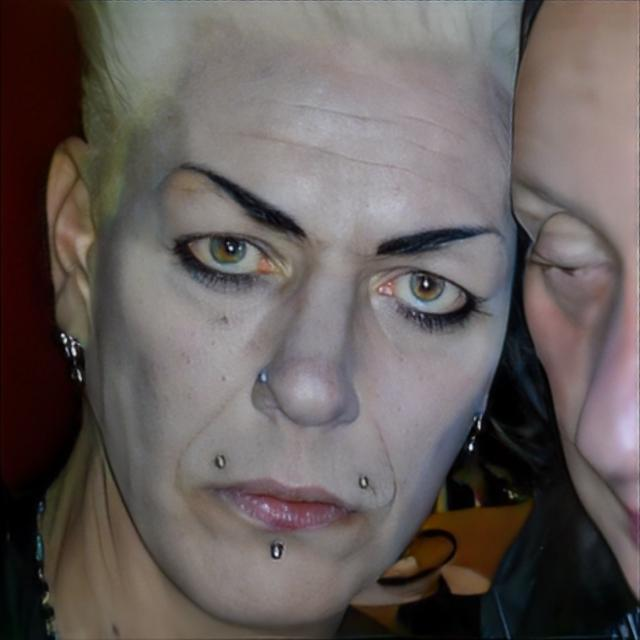anger: (85, 63, 506, 627)
